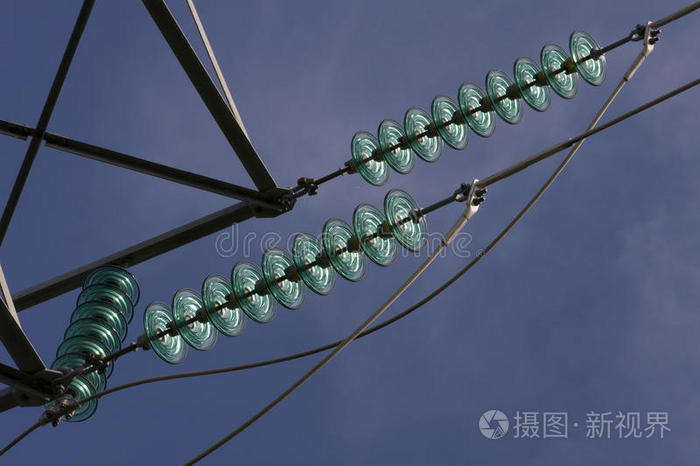insulator: (142, 188, 426, 364), (349, 32, 605, 186), (44, 264, 139, 426)
